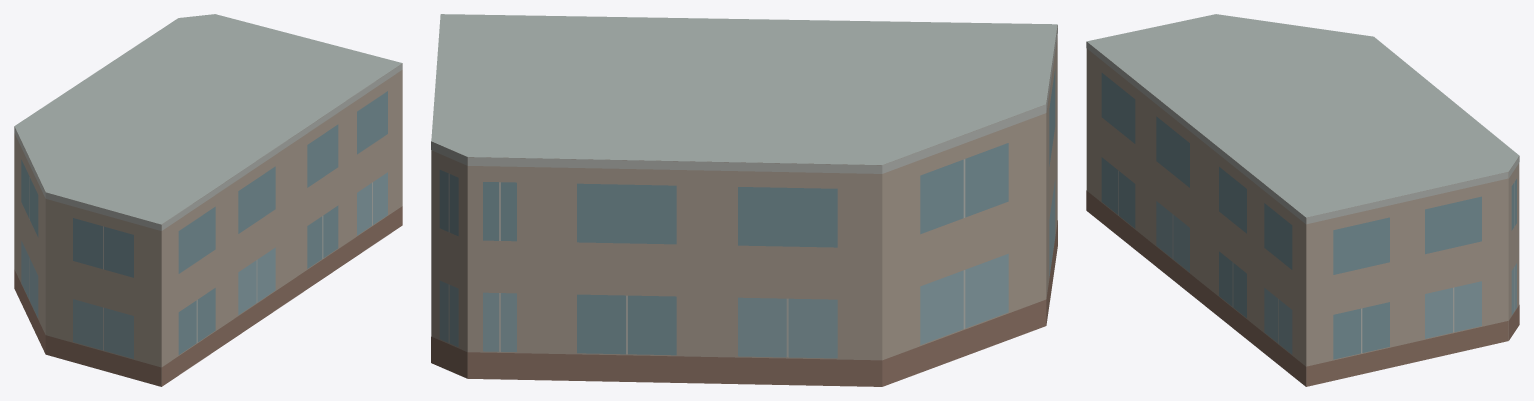
File: survey-upis-32711676.glb
3 views of the same model, side by side, from view 1: azimuth 30°, elevation 25°; view 2: azimuth 150°, elevation 25°; view 3: azimuth 270°, elevation 25° (orthographic). The views are drawn at different scales.
Visible parts, largest first — view 1: survey-upis-32711676.tmp; view 2: survey-upis-32711676.tmp; view 3: survey-upis-32711676.tmp.
Part boxes in pixels (x1=…): survey-upis-32711676.tmp: x1=14, y1=14, x2=402, y2=386; survey-upis-32711676.tmp: x1=431, y1=14, x2=1057, y2=386; survey-upis-32711676.tmp: x1=1086, y1=14, x2=1519, y2=386.
Bounding box in the file's own units: 15.75 × 6.1 × 14.15.
